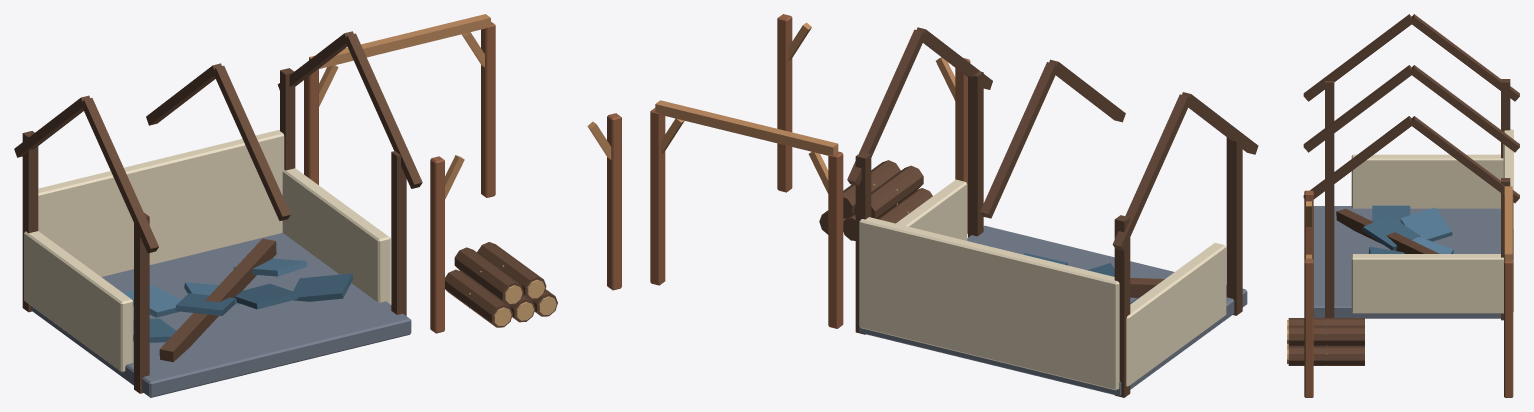
The model's file is station_ruined.glb.
The picture shows the model from 3 angles, left to right: view 1: azimuth 30°, elevation 25°; view 2: azimuth 150°, elevation 25°; view 3: azimuth 270°, elevation 25°; orthographic projection. The views are drawn at different scales.
Parts seen in each view (by area): view 1: station_ruined_建筑共用调色板.022; view 2: station_ruined_建筑共用调色板.022; view 3: station_ruined_建筑共用调色板.022.
Part boxes in pixels (x1=…): station_ruined_建筑共用调色板.022: x1=14, y1=14, x2=621, y2=397; station_ruined_建筑共用调色板.022: x1=650, y1=14, x2=1258, y2=397; station_ruined_建筑共用调色板.022: x1=1287, y1=14, x2=1519, y2=397.
Size of the model in its own units: 7.35 by 3.8 by 3.97.
Materials: 1 (1 with a texture image).
